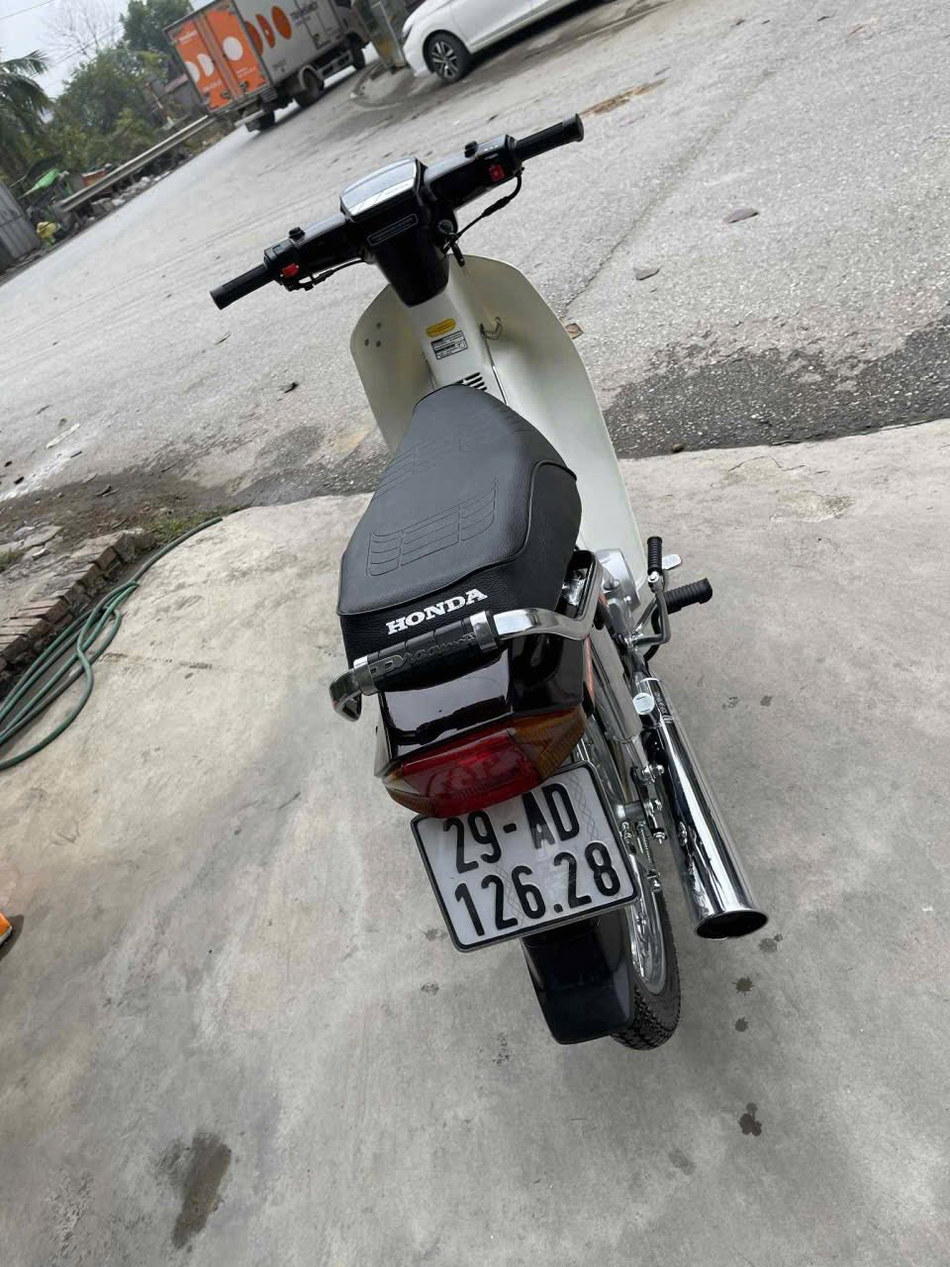bien_so: (402, 758, 648, 961)
